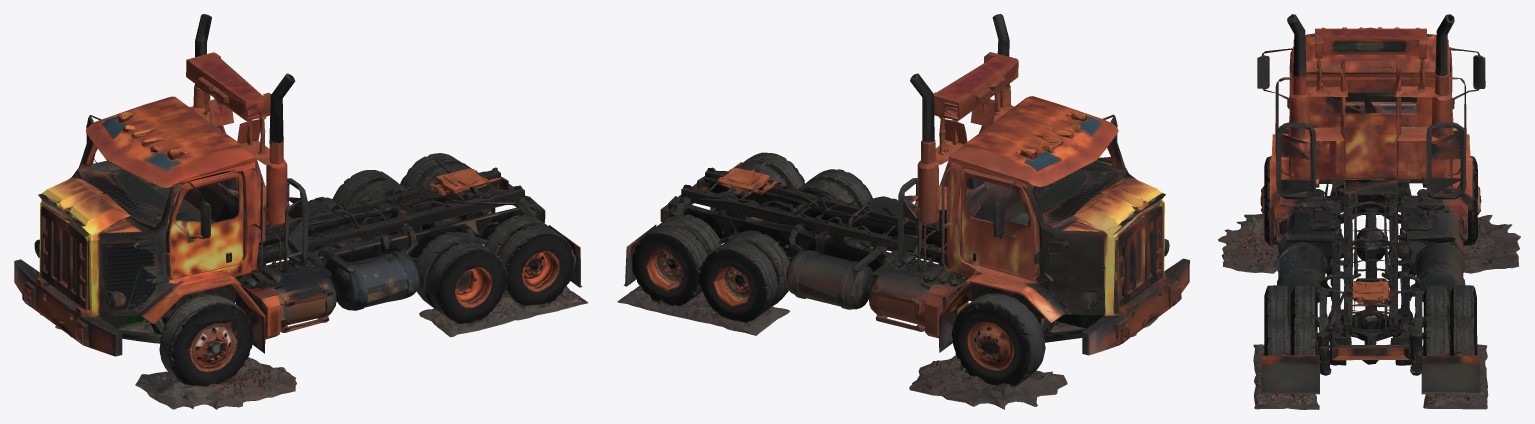
File: ash-wreck.glb
3 views of the same model, side by side, from view 1: azimuth 30°, elevation 25°; view 2: azimuth 150°, elevation 25°; view 3: azimuth 270°, elevation 25° (orthographic). The views are drawn at different scales.
Bounding box in the file's own units: 1.9 × 1.08 × 1.11.
1 material, 1 textured.
